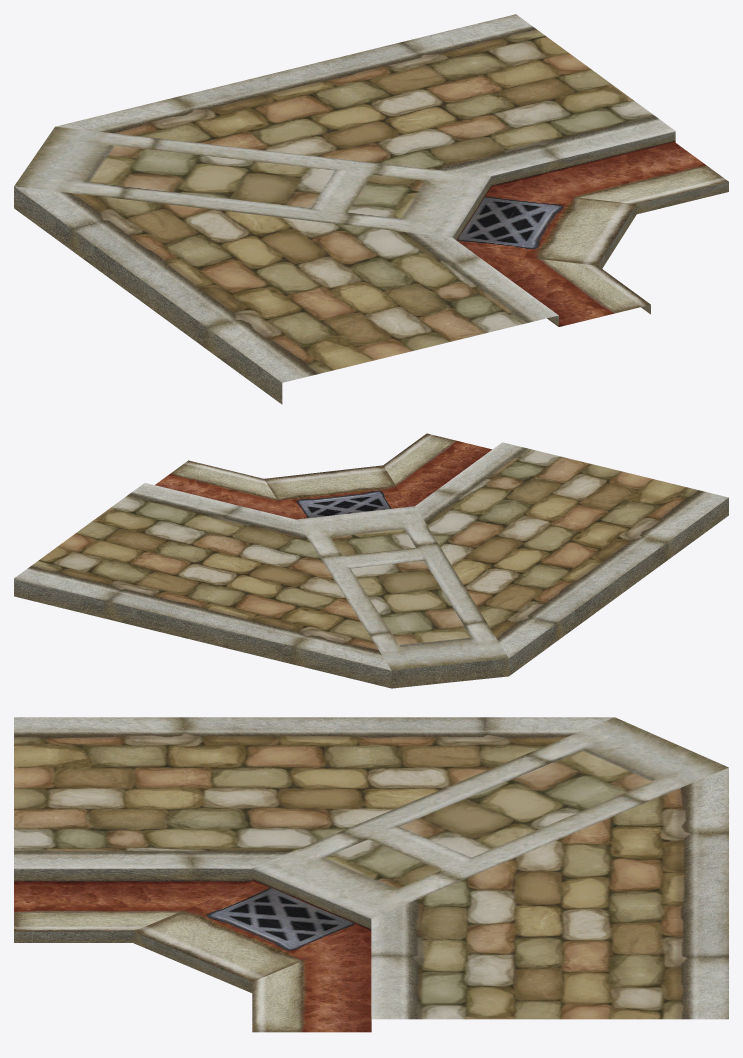
Rendered from obj_masabkinri01.glb.
3 views of the same model, one above another, from view 1: azimuth 30°, elevation 25°; view 2: azimuth 150°, elevation 25°; view 3: azimuth 270°, elevation 25° (orthographic). The views are drawn at different scales.
Visible parts, largest first — view 1: part_0; view 2: part_0; view 3: part_0.
Part boxes in pixels (x1,y1,x2,y2): part_0: (14, 14, 728, 404); part_0: (14, 433, 728, 688); part_0: (14, 717, 728, 1032).
Bounding box in the file's own units: 6 × 0.2266 × 6.
2 materials, 2 textured.
